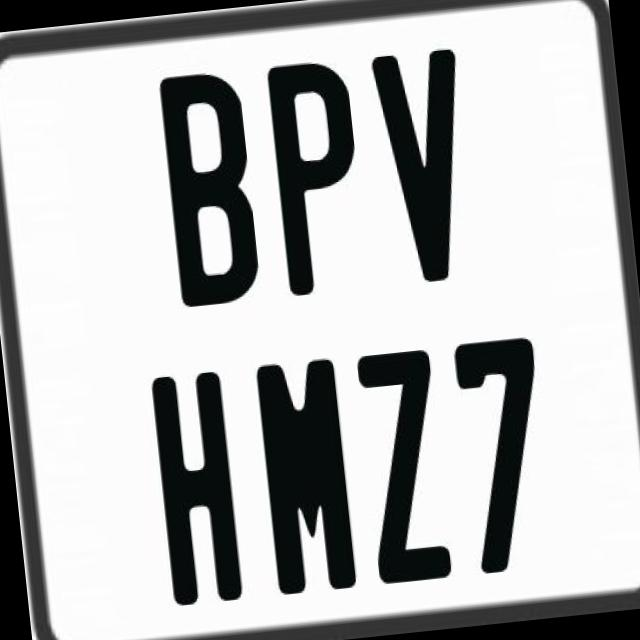7: (448, 335, 554, 573)
B: (159, 67, 269, 316)
H: (146, 369, 246, 605)
M: (254, 352, 358, 594)
P: (264, 53, 372, 293)
V: (366, 45, 476, 282)
Z: (352, 346, 456, 584)
